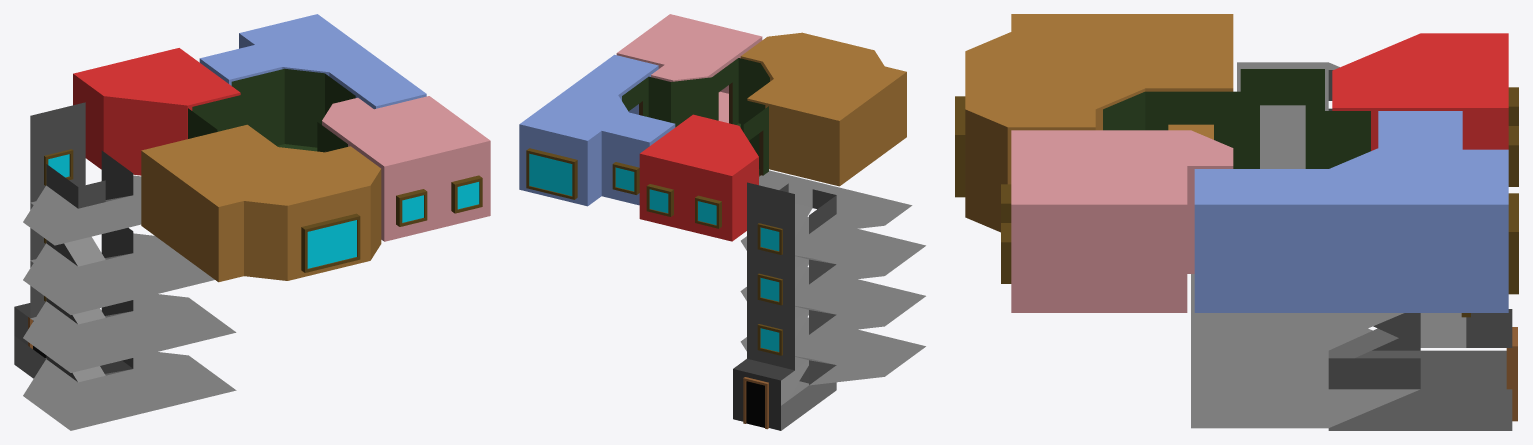
The model's file is level_03_mockup.fbx.
3 views of the same model, side by side, from view 1: azimuth 30°, elevation 25°; view 2: azimuth 150°, elevation 25°; view 3: azimuth 270°, elevation 25° (orthographic). The views are drawn at different scales.
Parts seen in each view (by area): view 1: Plane.028, Plane.003, Plane.005, Plane.006, Plane.002, Plane.018; view 2: Plane.028, Plane.003, Plane.008, Plane.052, Plane.001, Plane.017, Plane.000, Plane.020, Plane.019, Plane.018; view 3: Plane.028, Plane.003, Plane.008, Plane.005, Plane.052, Plane.006, Plane.017.
Boxes of the visible parts, x1,y1,x2,y2 form: Plane.028: (73,14,490,282); Plane.003: (14,102,236,430); Plane.005: (301,213,360,272); Plane.006: (451,175,482,213); Plane.002: (396,189,427,226); Plane.018: (44,149,73,185); Plane.028: (519,14,906,241); Plane.003: (733,170,925,430); Plane.008: (526,148,577,199); Plane.052: (743,377,768,429); Plane.001: (612,162,639,194); Plane.017: (646,184,673,216); Plane.000: (695,195,721,228); Plane.020: (757,324,782,355); Plane.019: (757,273,782,305); Plane.018: (757,223,782,254); Plane.028: (965,14,1508,312); Plane.003: (1191,62,1512,430); Plane.008: (1508,193,1518,294); Plane.005: (955,96,965,197); Plane.052: (1506,327,1517,421); Plane.006: (1001,223,1011,283); Plane.017: (1508,126,1518,186).
Size of what is drawn, in the model's own units: 12.92 by 12.29 by 9.6.
